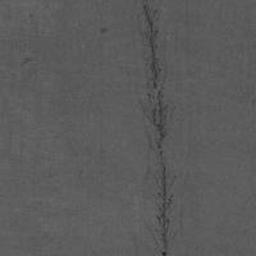Inclusion: (137, 0, 177, 256), (19, 56, 36, 65), (100, 27, 108, 33)
